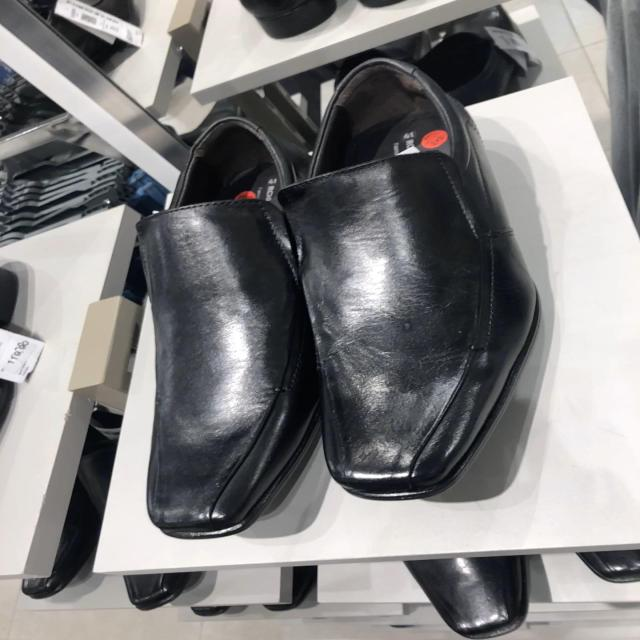shoe: (274, 56, 502, 501), (132, 112, 320, 539)
